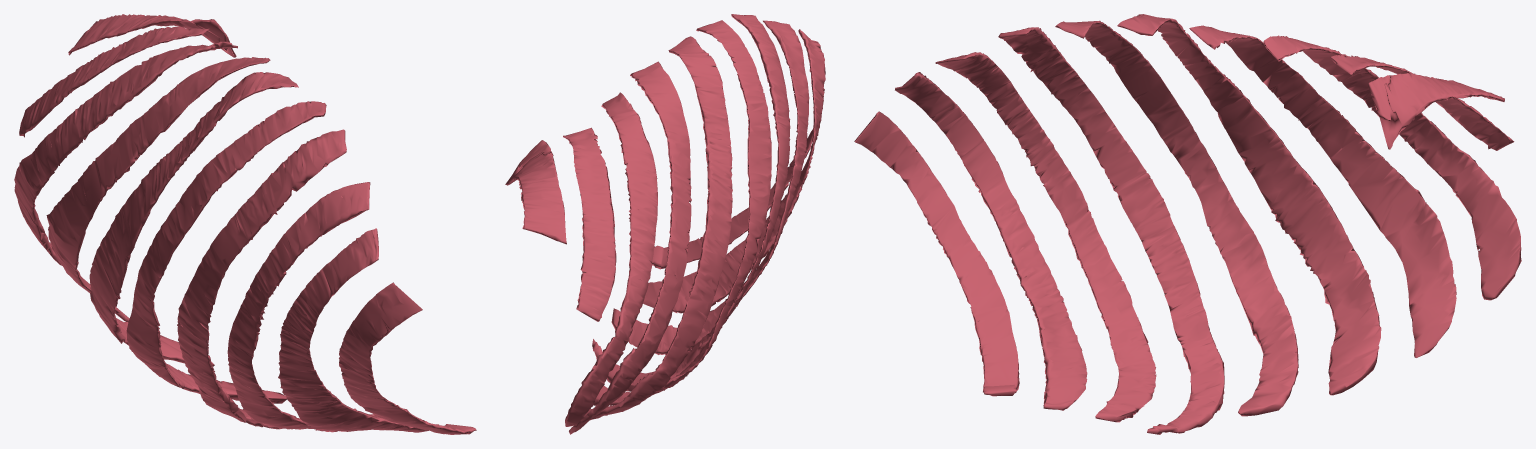
3 renders of one model, left to right at view 1: azimuth 30°, elevation 25°; view 2: azimuth 150°, elevation 25°; view 3: azimuth 270°, elevation 25°, orthographic. The views are drawn at different scales.
Parts seen in each view (by area): view 1: 右侧肋间内肌; view 2: 右侧肋间内肌; view 3: 右侧肋间内肌.
Part boxes in pixels (left/top/right/bottom): 右侧肋间内肌: left=14, top=14, right=476, bottom=434; 右侧肋间内肌: left=505, top=14, right=825, bottom=434; 右侧肋间内肌: left=854, top=14, right=1521, bottom=434.
Size of the model in its own units: 0.1849 by 0.3035 by 0.4863.
